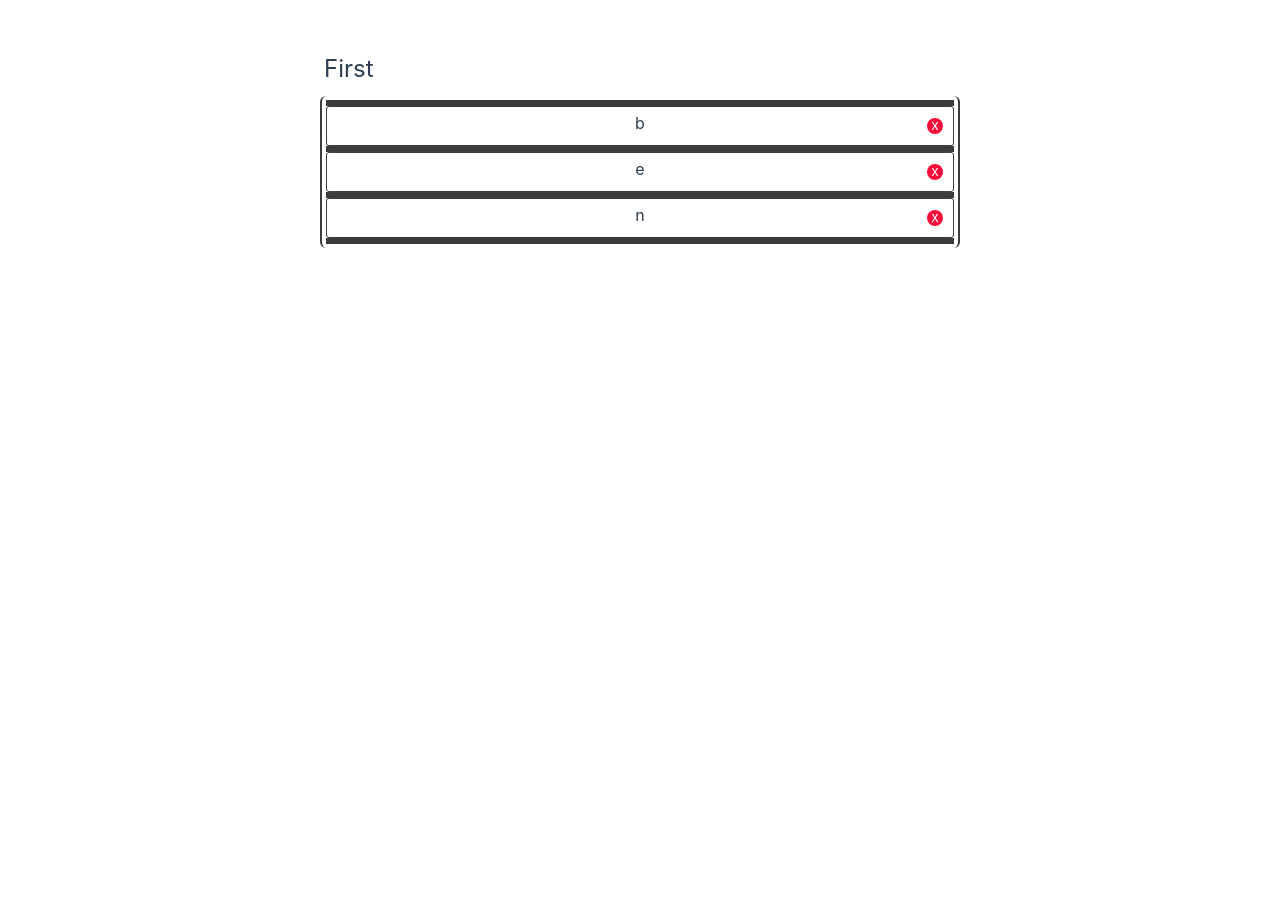
it: Puzzle view › when adding new answers › should be possible to add one to the end of the list
Click the 4th button with test id "add".
click(640, 241)  # box left=326, top=238, right=954, bottom=244
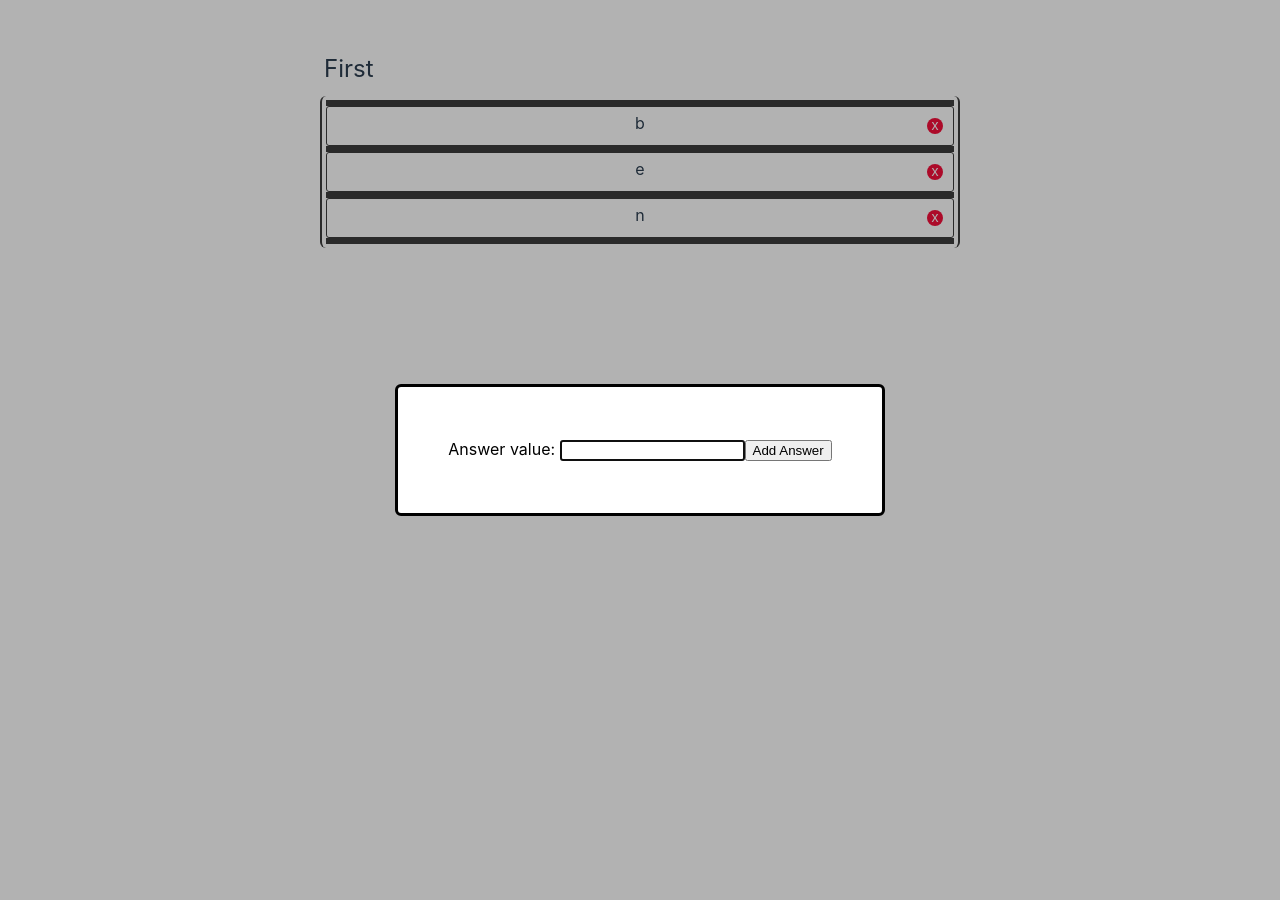
Type "abcd" into the field labelled "Answer value:".
click(652, 451); type("abcd")  # box left=560, top=440, right=745, bottom=461
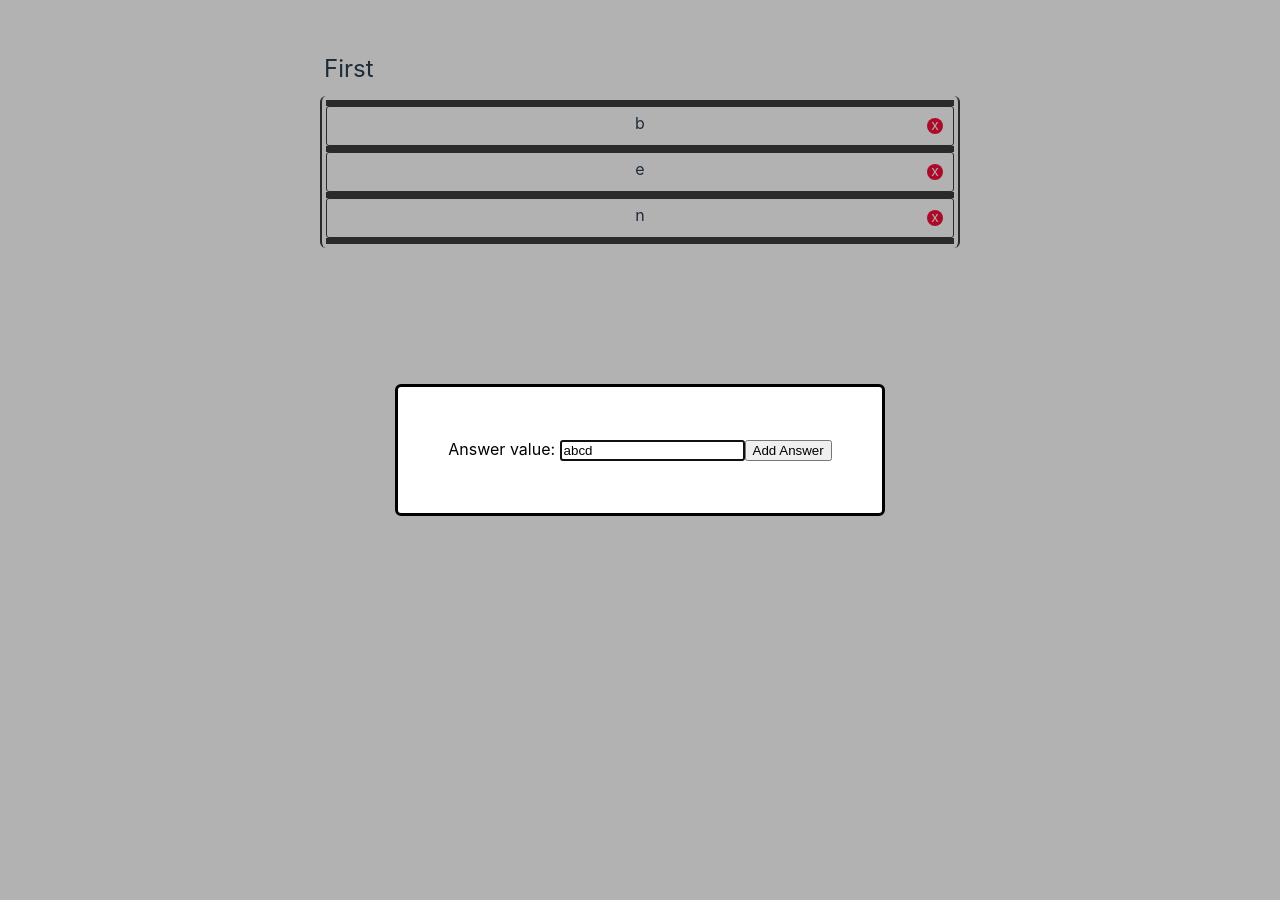
Click the button "Add Answer".
click(788, 451)  # box left=745, top=440, right=832, bottom=461
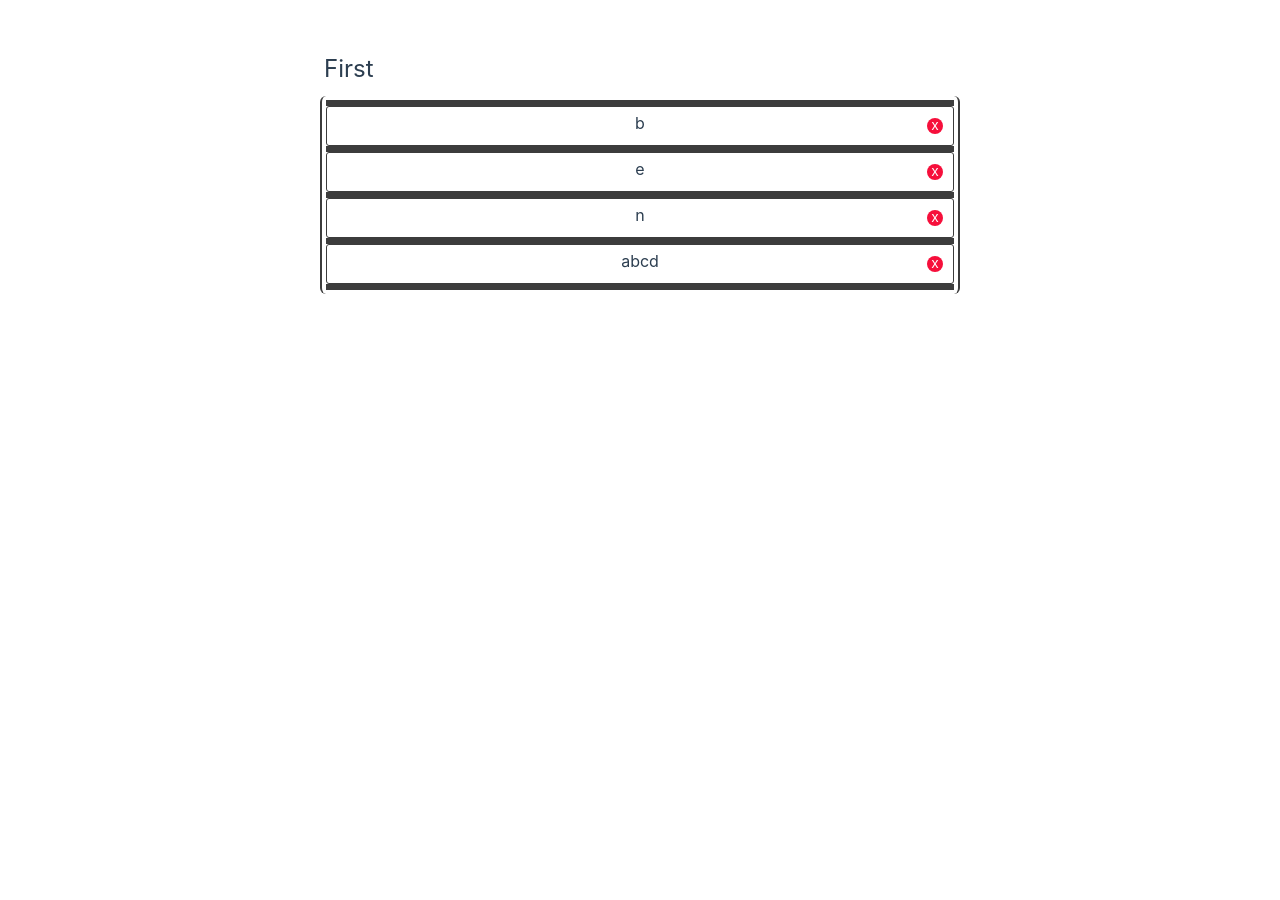
Now the number of elements with class "answer" is 4, box left=326, top=106, right=954, bottom=146; left=326, top=152, right=954, bottom=192; left=326, top=198, right=954, bottom=238; left=326, top=244, right=954, bottom=284
Now the element with class "answer" shows "abcd", box left=621, top=251, right=659, bottom=271
